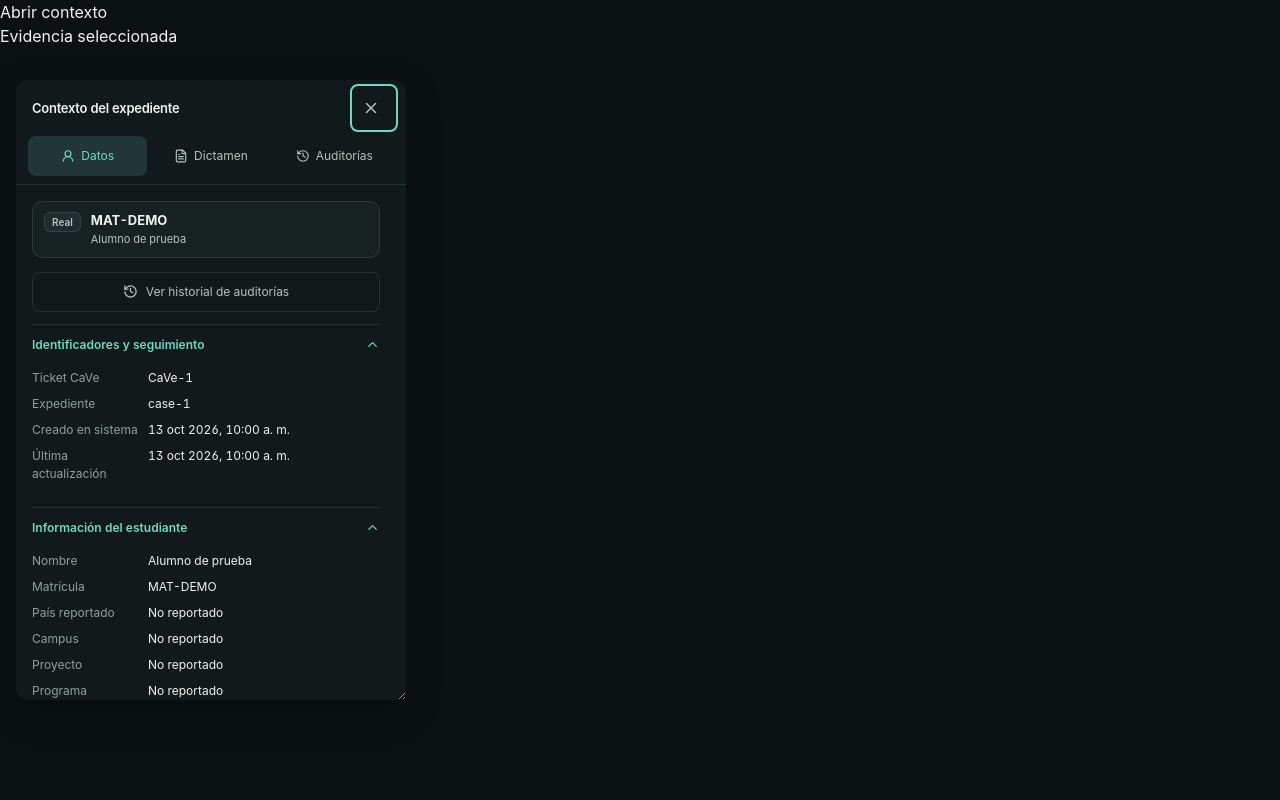
Test: mantiene Evidencia insuficiente junto a la resolución orientativa ya guardada
Click the tab "Dictamen" at (211, 156), box [151,136,271,176]
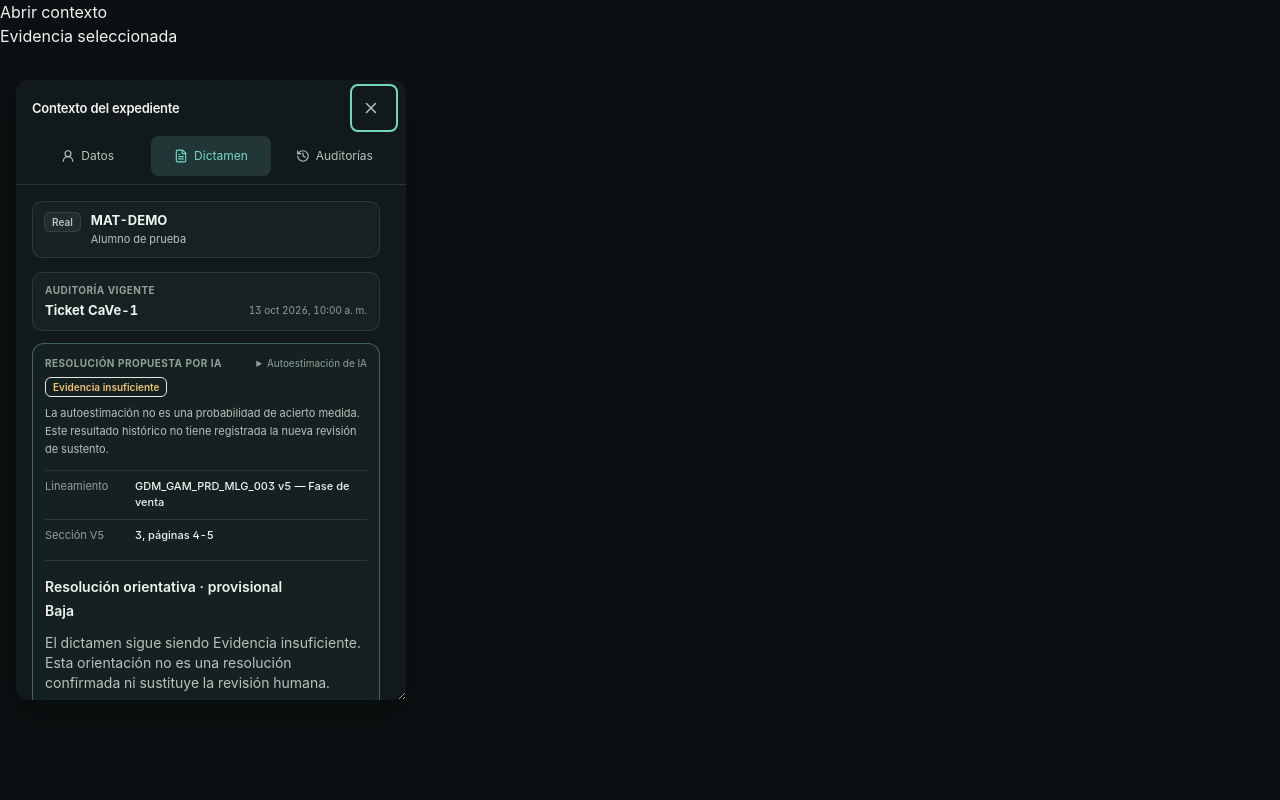
Result: the text "Evidencia insuficiente" is shown at [45,377,167,397]
Result: the element "Resolución orientativa" shows "Baja" at [45,602,74,619]
